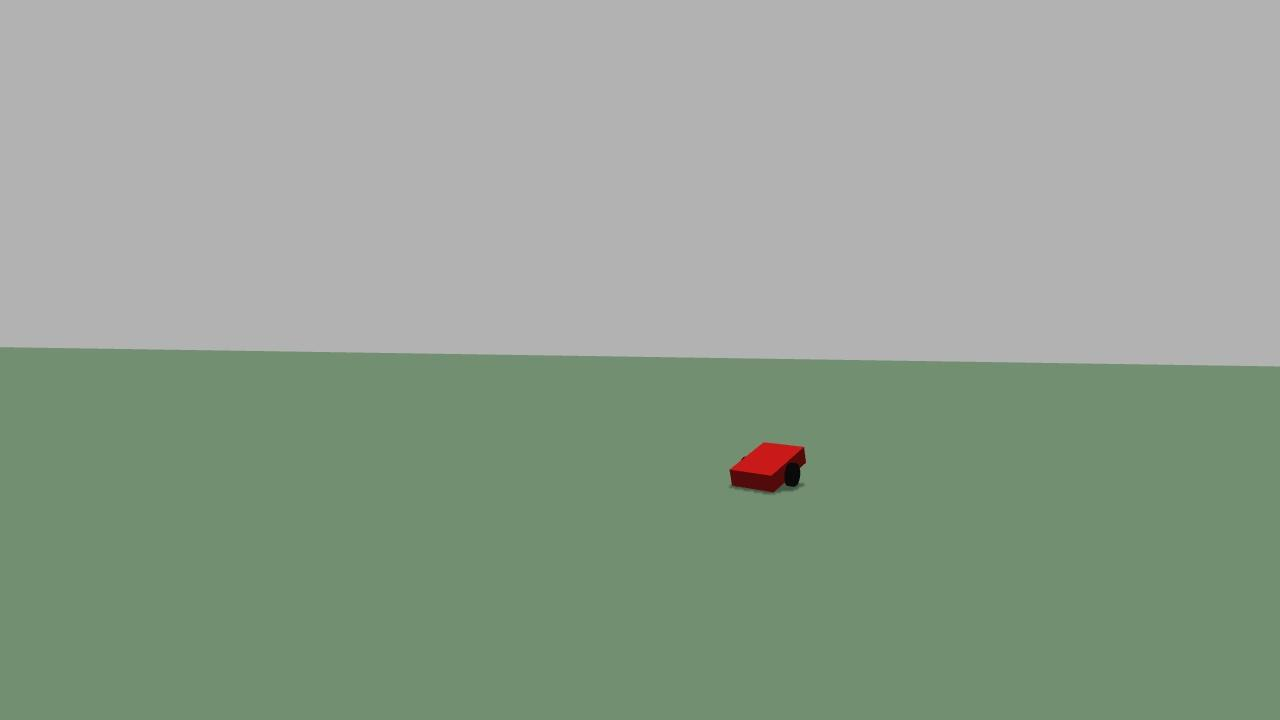ground_vehicle: (721, 430, 817, 503)
